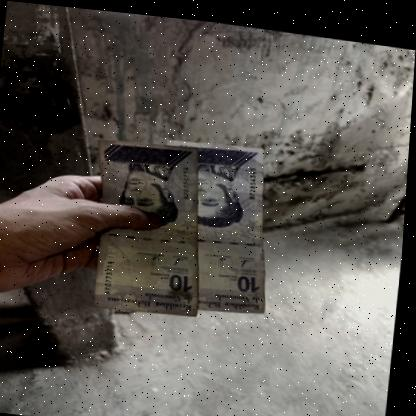ten-front-vef: (84, 131, 216, 319), (154, 131, 282, 312)
